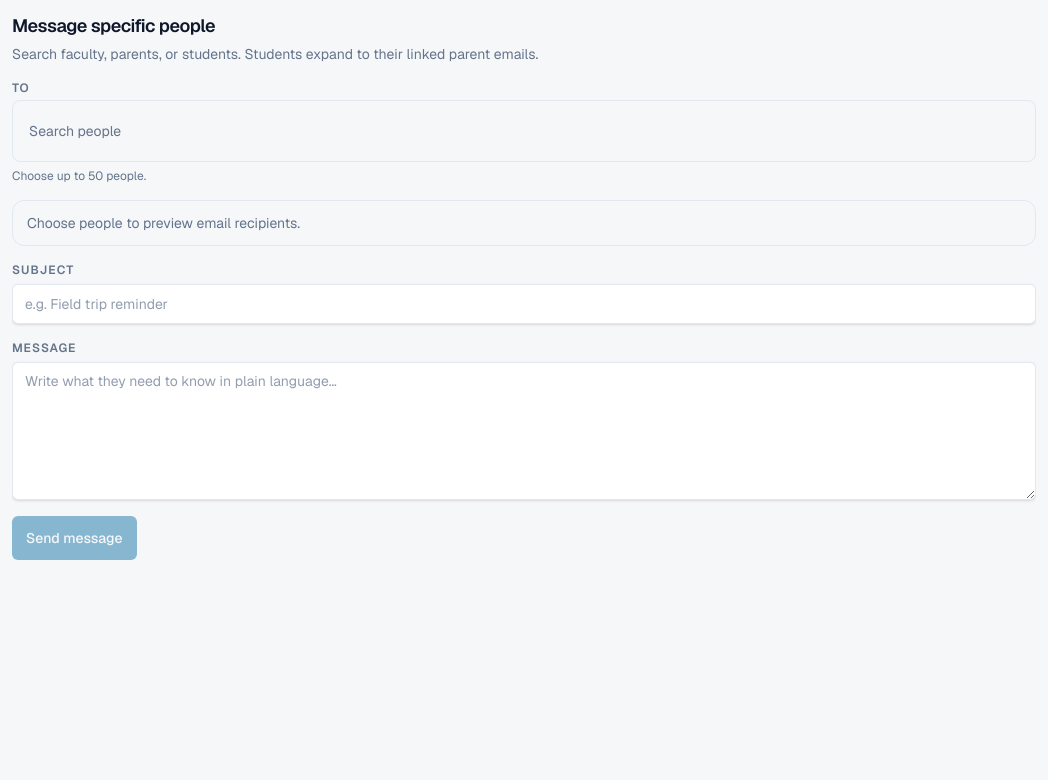
Test case: PeopleMessageForm › explains unavailable selections and enforces reference and resolved-recipient limits
This screenshot has width=1048, height=780.
Expected: the text "Choose up to 50 people." is shown, top-left (12, 168), bottom-right (146, 184)
In the dropdown labelled "To": (524, 131) top-left (21, 109), bottom-right (1027, 153), type "Av"
Wait 250 ms
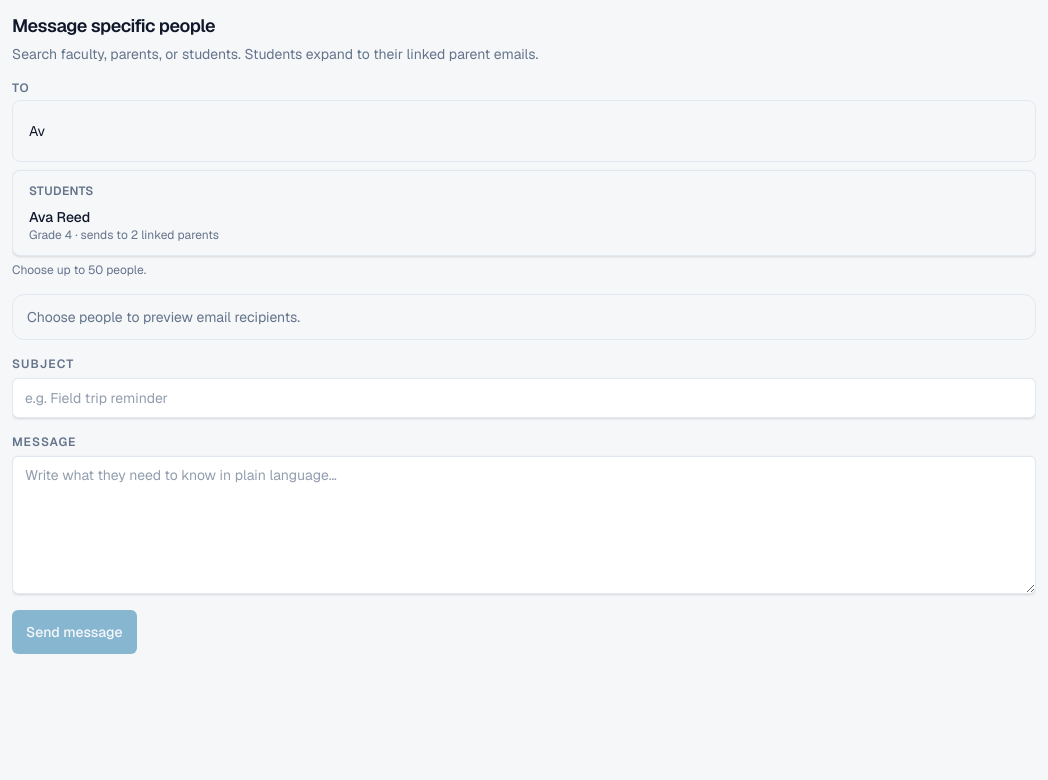
Press Arrowdown Enter
Wait 150 ms
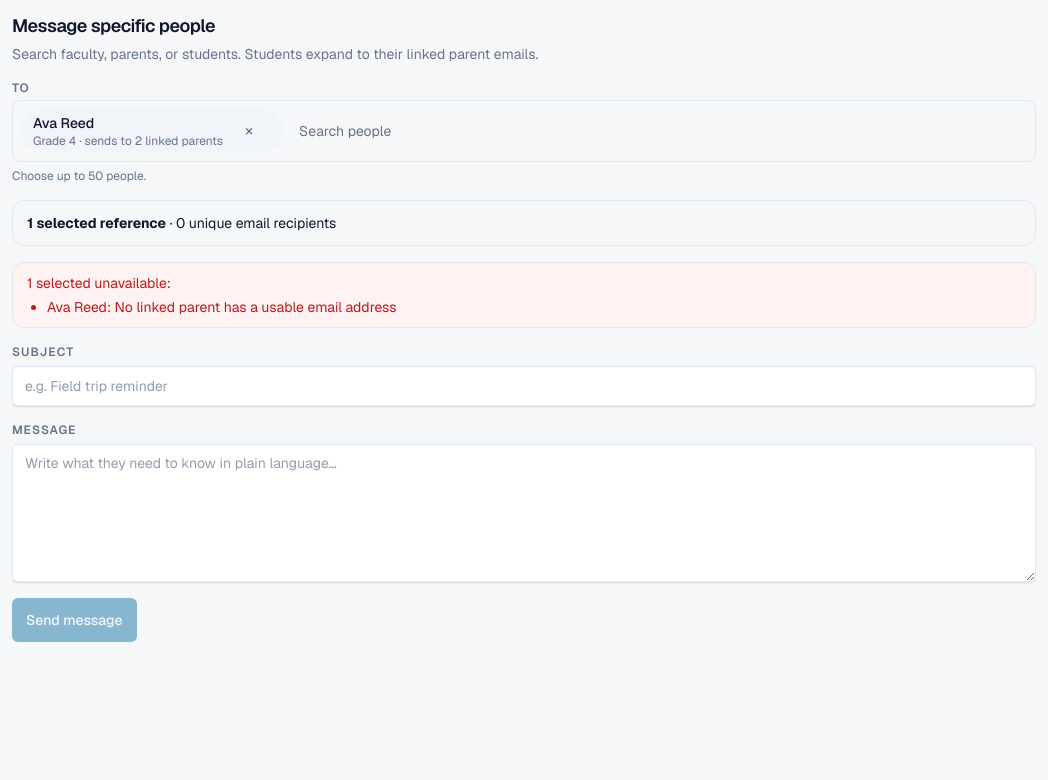
Expected: the button "Send message" is disabled, top-left (12, 598), bottom-right (136, 642)
Now the message shows "Ava Reed: No linked parent has a usable email address", box top-left (12, 262), bottom-right (1036, 328)
Click the button named "Remove Ava Reed": (249, 131) top-left (227, 109), bottom-right (271, 153)
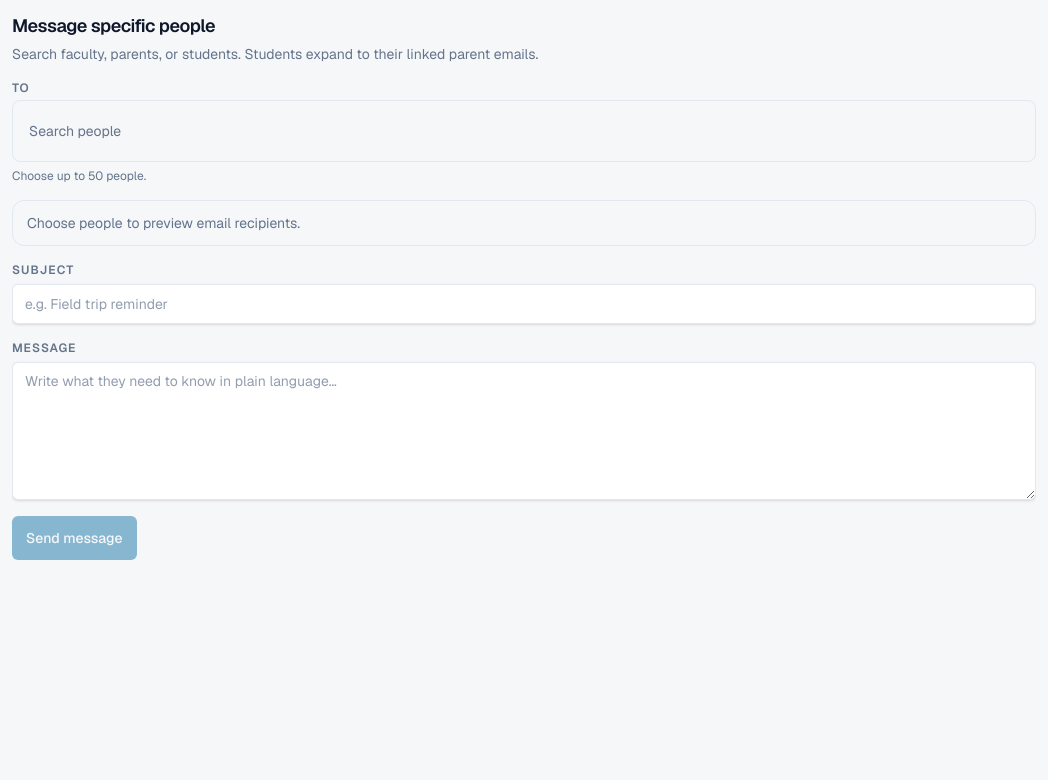
In the dropdown labelled "To": (524, 131) top-left (21, 109), bottom-right (1027, 153), type "Bl"
Wait 250 ms
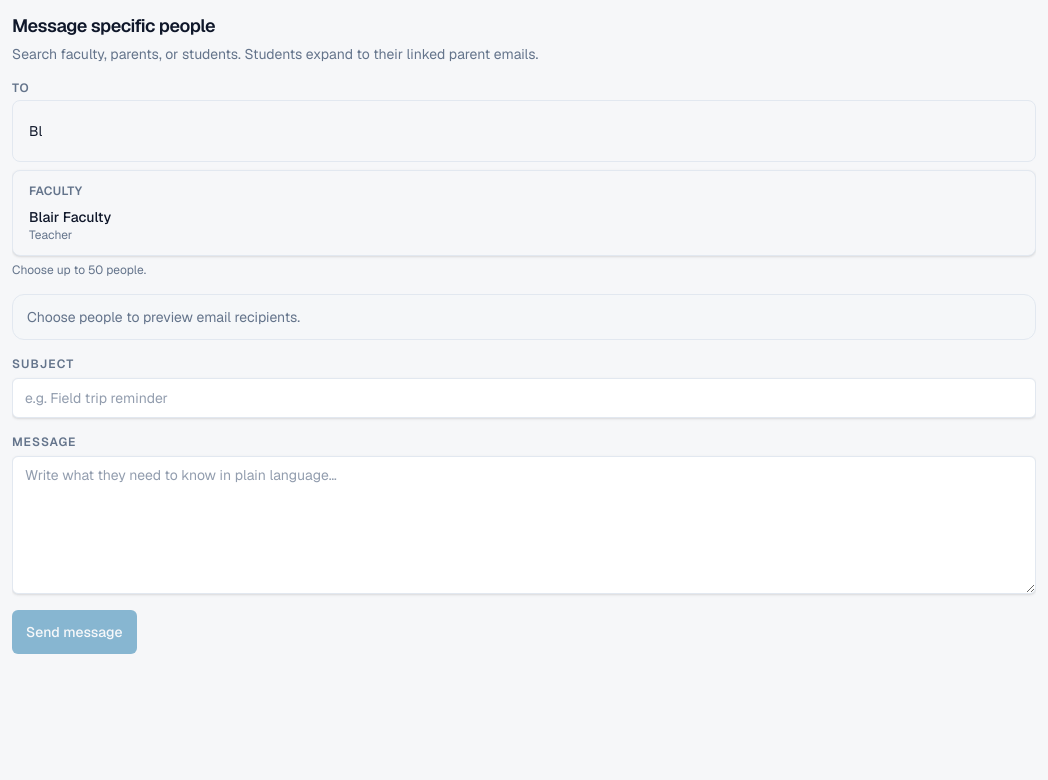
Press Arrowdown Enter
Wait 150 ms
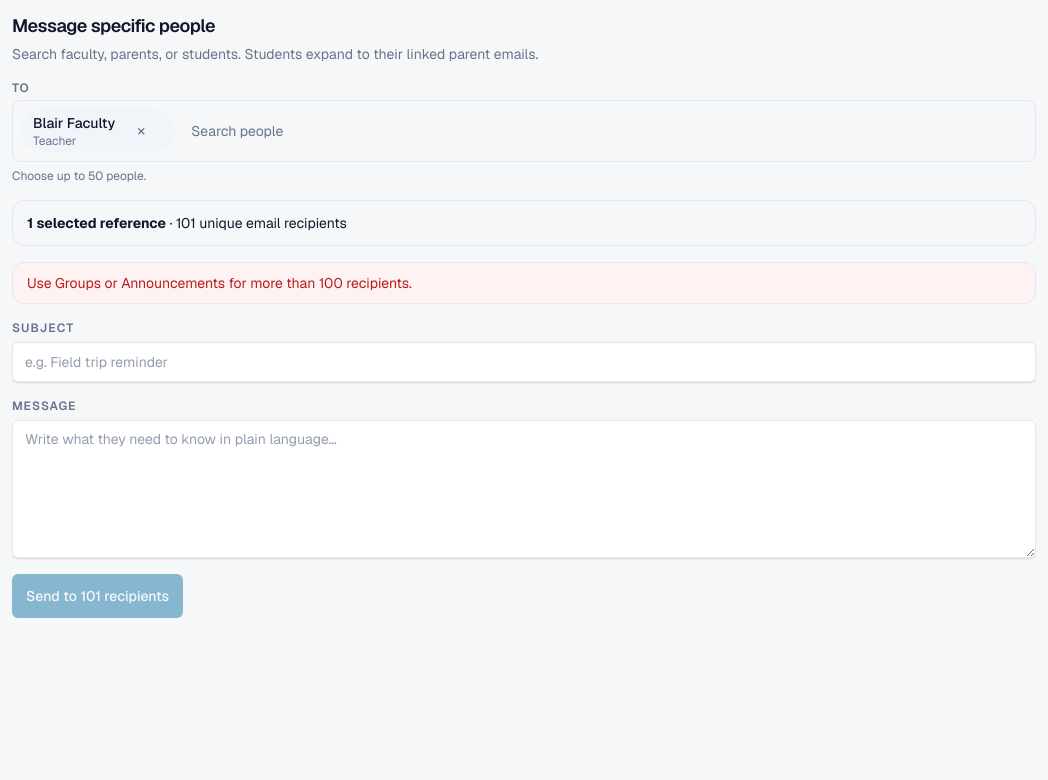
Expected: the button "Send to 101 recipients" is disabled, top-left (12, 574), bottom-right (183, 618)
Now the message reads "Use Groups or Announcements for more than 100 recipients.", box top-left (27, 274), bottom-right (412, 292)
